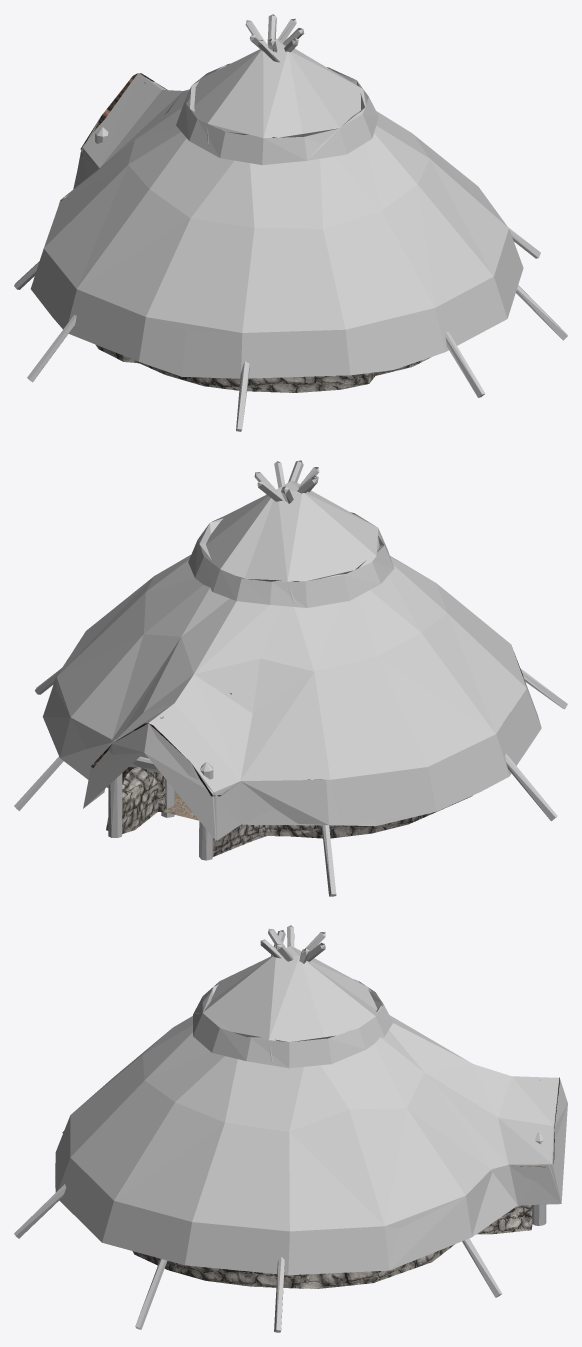
File: RoundHut_1_LOD3.fbx
The picture shows the model from 3 angles, top to bottom: view 1: azimuth 30°, elevation 25°; view 2: azimuth 150°, elevation 25°; view 3: azimuth 270°, elevation 25°; orthographic projection. The views are drawn at different scales.
Visible parts, largest first — view 1: Alpha, Wood, Stone; view 2: Alpha, Wood, Stone; view 3: Alpha, Stone, Wood.
Boxes of the visible parts, x1,y1,x2,y2 form: Alpha: [30, 39, 523, 378]; Wood: [14, 14, 567, 431]; Stone: [95, 344, 431, 392]; Alpha: [42, 481, 541, 840]; Wood: [14, 460, 567, 896]; Stone: [106, 767, 472, 856]; Alpha: [55, 946, 567, 1275]; Stone: [132, 1205, 532, 1288]; Wood: [14, 925, 546, 1332].
Bounding box in the file's own units: 2129 × 2060 × 1213.
